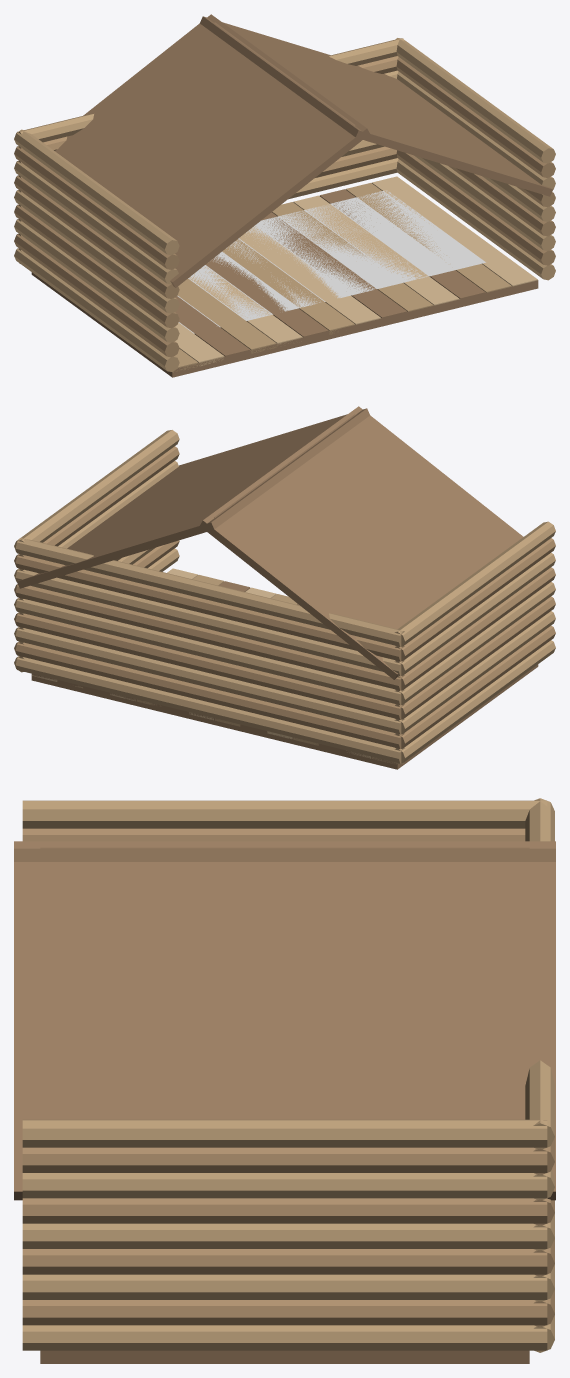
Rendered from longhouse_interior.glb.
3 views of the same model, one above another, from view 1: azimuth 30°, elevation 25°; view 2: azimuth 150°, elevation 25°; view 3: azimuth 270°, elevation 25° (orthographic). The views are drawn at different scales.
Visible parts, largest first — view 1: roof-1, nav_floor, roof1, floor_base, logs-18, plank10, logs18, plank13, plank7, plank6, plank8, logs-12 (+26 smaller); view 2: roof-1, roof1, logb8, logb2, logb4, logb0, logb1, logb3, logb5, logb6, logb7, logs-18 (+13 smaller); view 3: roof1, logs18, logs-18, logs13, logs10, logs16, logs11, logs15, logs12, logs14, logs17, roof-1 (+4 smaller).
Boxes of the visible parts, x1,y1,x2,y2 form: roof-1: (55, 14, 369, 287); nav_floor: (177, 190, 485, 333); roof1: (200, 16, 553, 196); floor_base: (31, 272, 538, 377); logs-18: (14, 129, 179, 255); plank10: (293, 195, 459, 305); logs18: (395, 38, 555, 163); plank13: (372, 176, 537, 286); plank7: (239, 226, 380, 324); plank6: (222, 239, 354, 334); plank8: (261, 212, 407, 318); logs-12: (14, 219, 179, 342); roof-1: (200, 406, 523, 679); roof1: (16, 408, 369, 588); logb8: (15, 538, 404, 646); logb2: (15, 627, 404, 734); logb4: (15, 598, 404, 705); logb0: (15, 656, 404, 763); logb1: (15, 642, 404, 748); logb3: (15, 612, 404, 719); logb5: (15, 585, 404, 690); logb6: (15, 569, 404, 675); logb7: (15, 554, 404, 661); logs-18: (394, 521, 555, 647); roof1: (14, 841, 555, 1200); logs18: (22, 1119, 547, 1147); logs-18: (22, 800, 547, 828); logs13: (22, 1249, 547, 1274); logs10: (22, 1325, 547, 1350); logs16: (22, 1173, 547, 1198); logs11: (22, 1300, 547, 1325); logs15: (22, 1198, 547, 1223); logs12: (22, 1274, 547, 1299); logs14: (22, 1223, 547, 1248); logs17: (22, 1147, 547, 1172); roof-1: (14, 848, 555, 861).
Size of the model in its own units: 8.98 by 4.59 by 6.2.
